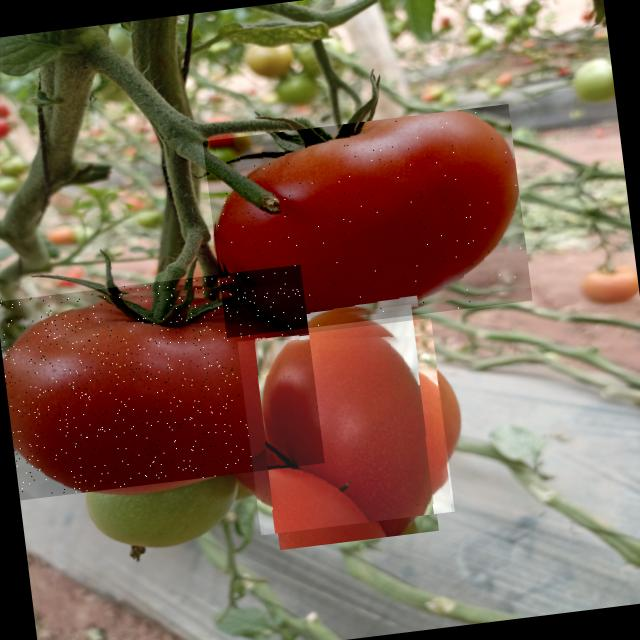Ripe Tomato: (202, 104, 532, 338), (0, 264, 324, 500), (237, 318, 454, 534)
